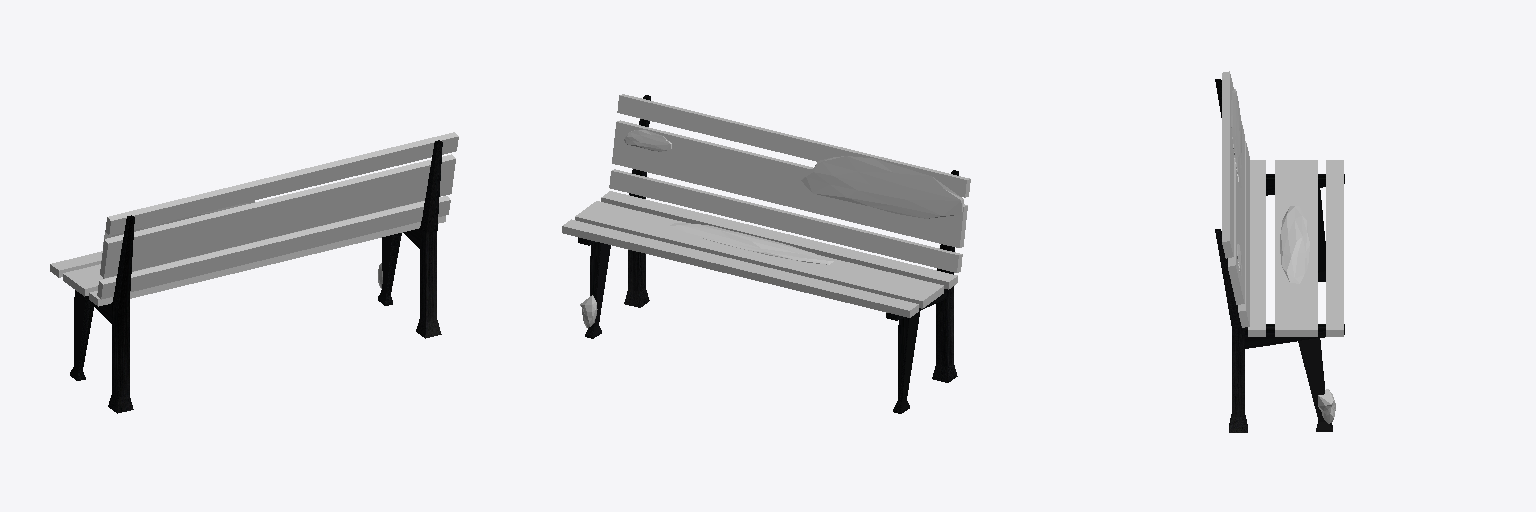
3 renders of one model, left to right at view 1: azimuth 30°, elevation 25°; view 2: azimuth 150°, elevation 25°; view 3: azimuth 270°, elevation 25°, orthographic.
Visible parts, largest first — view 1: Cube.002, Cube.004, Cube.003, Cube, Cube.001, Cube.007, Cube.005, Cube.006; view 2: Cube.002, Cube.003, Cube.005, Icosphere.002, Cube.006, Cube.004, Cube.007, Cube, Cube.001, Icosphere, Icosphere.001; view 3: Cube.005, Cube.001, Cube.006, Cube.007, Cube.004, Icosphere, Cube.002, Cube, Cube.003, Icosphere.002.
Part boxes in pixels (x1,y1,x2,y2): Cube.002: (100,154,455,278); Cube.004: (105,132,458,235); Cube.003: (97,196,450,299); Cube: (70,215,134,413); Cube.001: (378,140,442,338); Cube.007: (89,216,445,306); Cube.005: (63,201,422,296); Cube.006: (50,251,102,277); Cube.002: (612,120,967,247); Cube.003: (609,169,962,272); Cube.005: (575,201,943,308); Icosphere.002: (801,156,963,218); Cube.006: (562,219,918,317); Cube.004: (617,94,970,197); Cube.007: (601,191,957,289); Cube: (886,170,958,413); Cube.001: (578,95,650,338); Icosphere: (670,223,833,264); Icosphere.001: (624,130,671,151); Cube.005: (1275,160,1317,336); Cube.001: (1215,229,1344,432); Cube.006: (1326,160,1343,336); Cube.007: (1248,160,1265,336); Cube.004: (1222,71,1233,258); Icosphere: (1280,206,1309,283); Cube.002: (1228,121,1244,304); Cube: (1215,79,1344,281); Cube.003: (1238,141,1249,327); Icosphere.002: (1231,89,1241,187).
Size of the model in its own units: 8 by 4.39 by 2.58.
Materials: 3 (1 with a texture image).